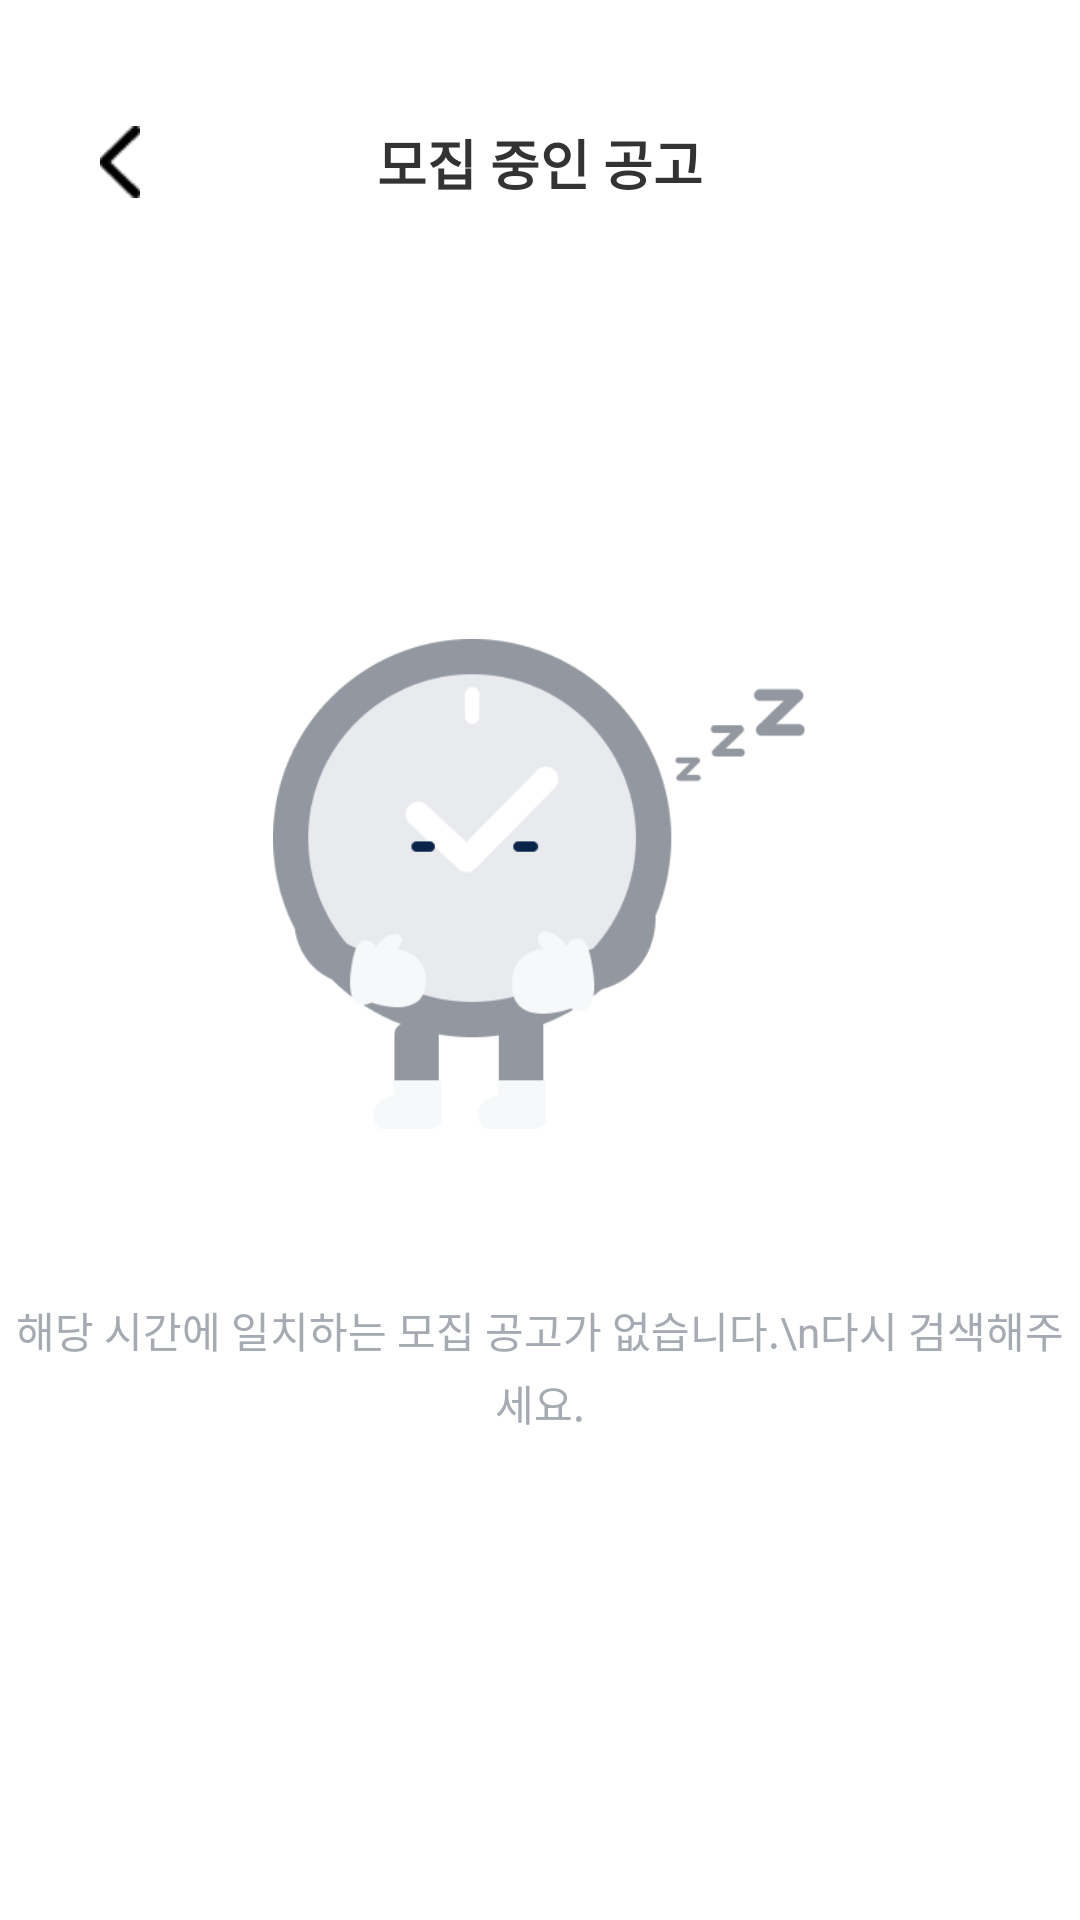

Icons on this 1080w x 1920h Android screen, each with the point to tap as (x,y):
back arrow: (120,162)
